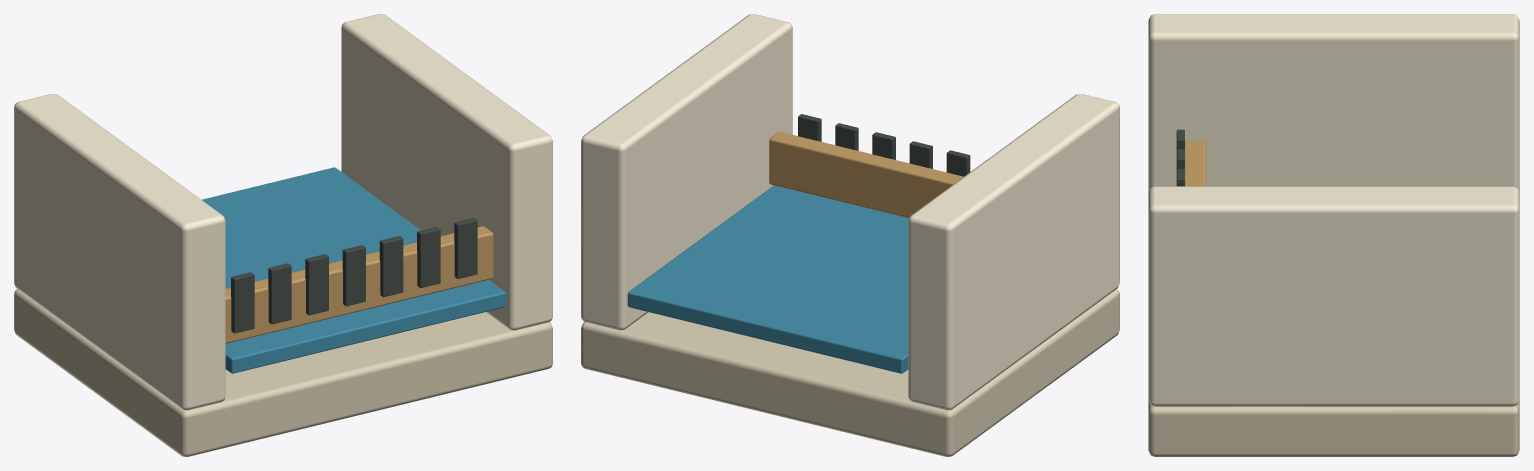
The model's file is fantasy-bathhouse-and-thermal-sanctuary-fantasy-bathho-f356c95a__29440.glb.
The picture shows the model from 3 angles, left to right: view 1: azimuth 30°, elevation 25°; view 2: azimuth 150°, elevation 25°; view 3: azimuth 270°, elevation 25°; orthographic projection. The views are drawn at different scales.
Parts seen in each view (by area): view 1: fantasy-bathhouse-and-thermal-sanctuary-overflow-weir; view 2: fantasy-bathhouse-and-thermal-sanctuary-overflow-weir; view 3: fantasy-bathhouse-and-thermal-sanctuary-overflow-weir.
Boxes of the visible parts, x1=… form: fantasy-bathhouse-and-thermal-sanctuary-overflow-weir: x1=14, y1=14, x2=552, y2=456; fantasy-bathhouse-and-thermal-sanctuary-overflow-weir: x1=581, y1=14, x2=1119, y2=456; fantasy-bathhouse-and-thermal-sanctuary-overflow-weir: x1=1148, y1=14, x2=1519, y2=456.
Size of the model in its own units: 1 by 0.6 by 0.8.
